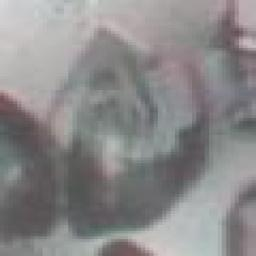crystals: (39, 23, 215, 244)
